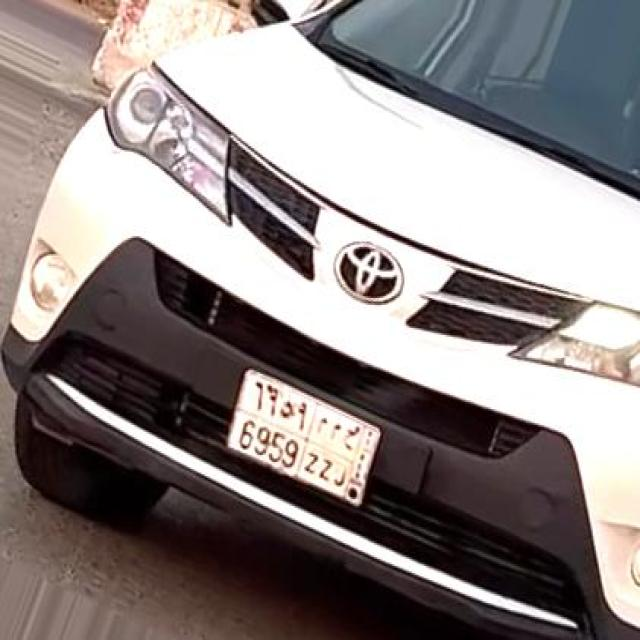Car-plate: (210, 349, 392, 530)
